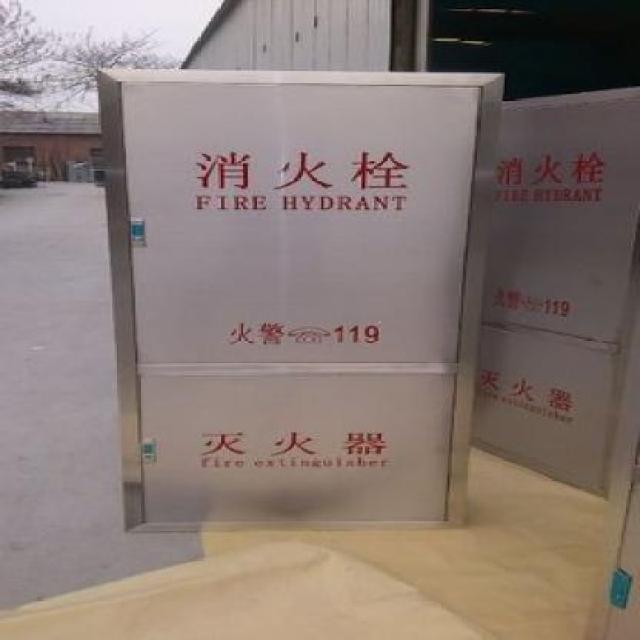firehydrant: (92, 65, 508, 536), (475, 74, 640, 504)
